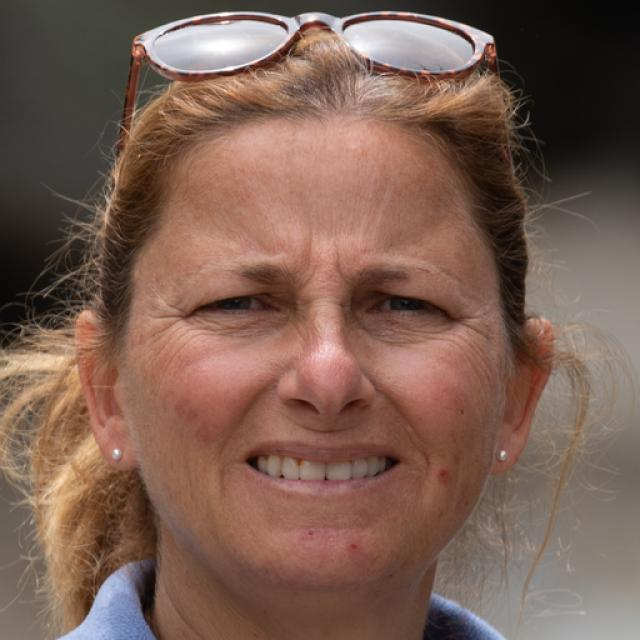Acne: (297, 521, 322, 540), (346, 538, 363, 558), (434, 463, 451, 482)
Wrinkle: (374, 385, 433, 477), (216, 381, 268, 458)
